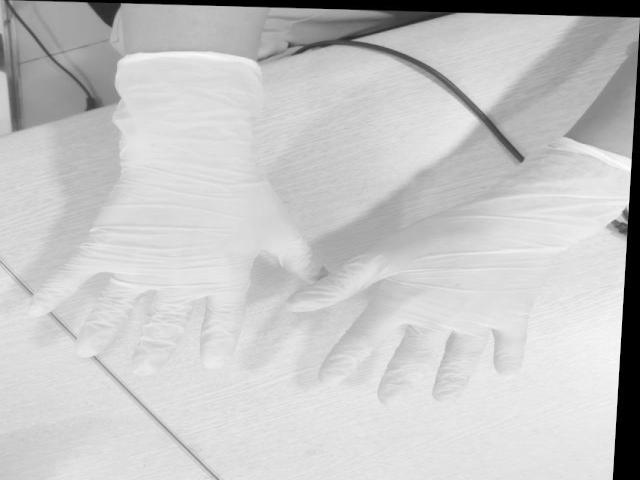gloved: (34, 163, 318, 371), (310, 190, 548, 404)
